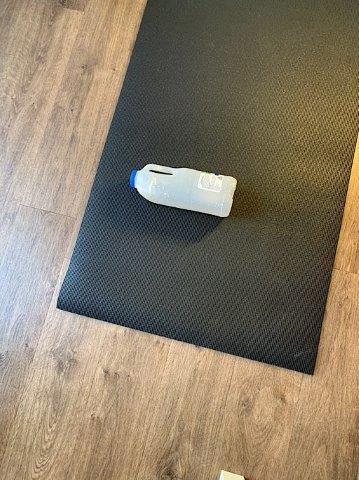botolplastik: (130, 164, 235, 217)
